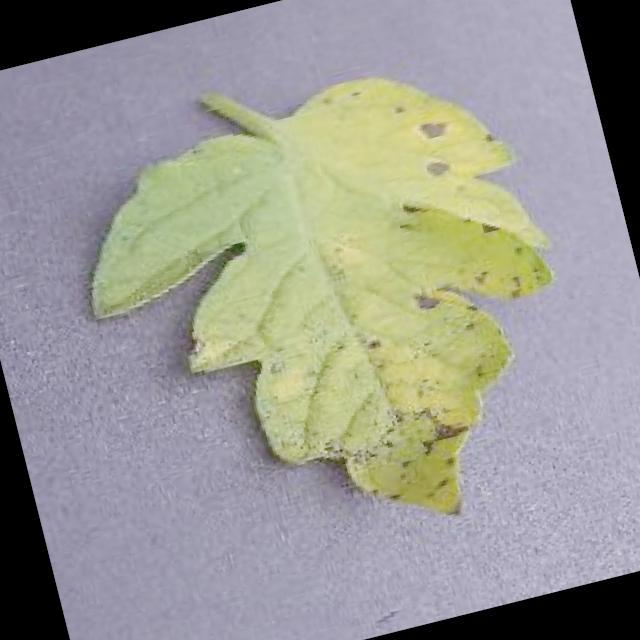Tomato Septoria spot leaf: (53, 44, 606, 584)
